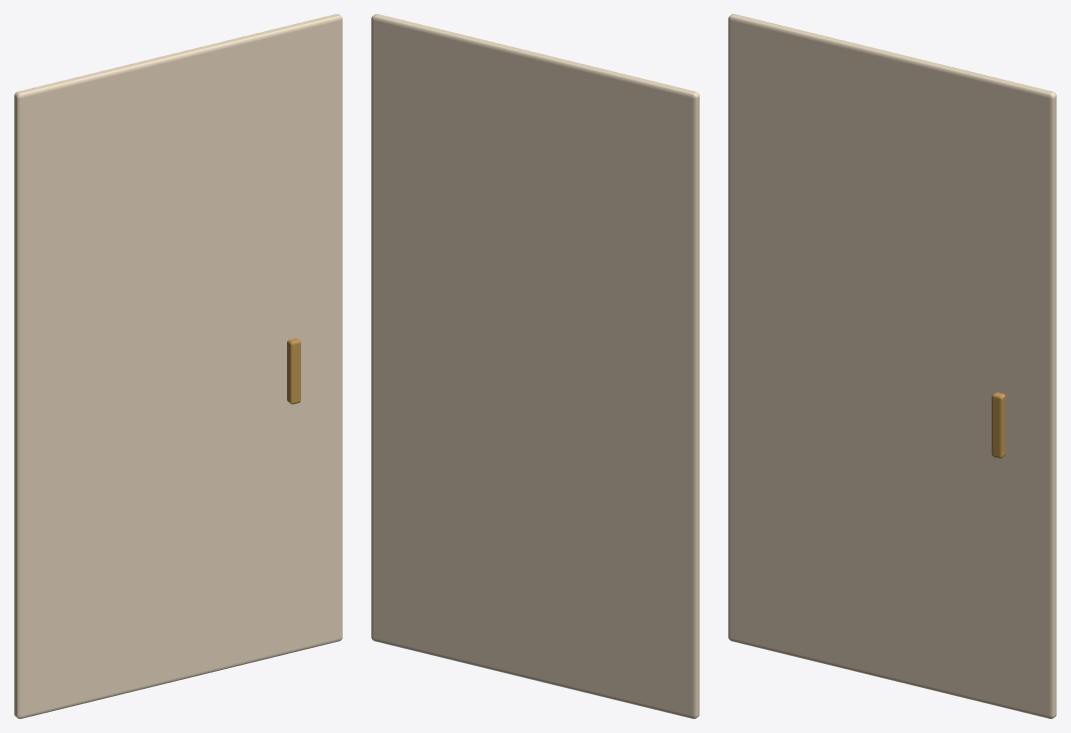
Rendered from door.glb.
The picture shows the model from 3 angles, left to right: view 1: azimuth 30°, elevation 25°; view 2: azimuth 150°, elevation 25°; view 3: azimuth 330°, elevation 25°; orthographic projection.
Visible parts, largest first — view 1: door, handle; view 2: door; view 3: door, handle.
Part boxes in pixels (bbox=[...]): door: bbox=[14, 14, 342, 718]; handle: bbox=[287, 338, 300, 404]; door: bbox=[371, 14, 699, 718]; door: bbox=[728, 14, 1056, 718]; handle: bbox=[991, 392, 1005, 458].
Size of the model in its own units: 1.2 by 2.2 by 0.06.
